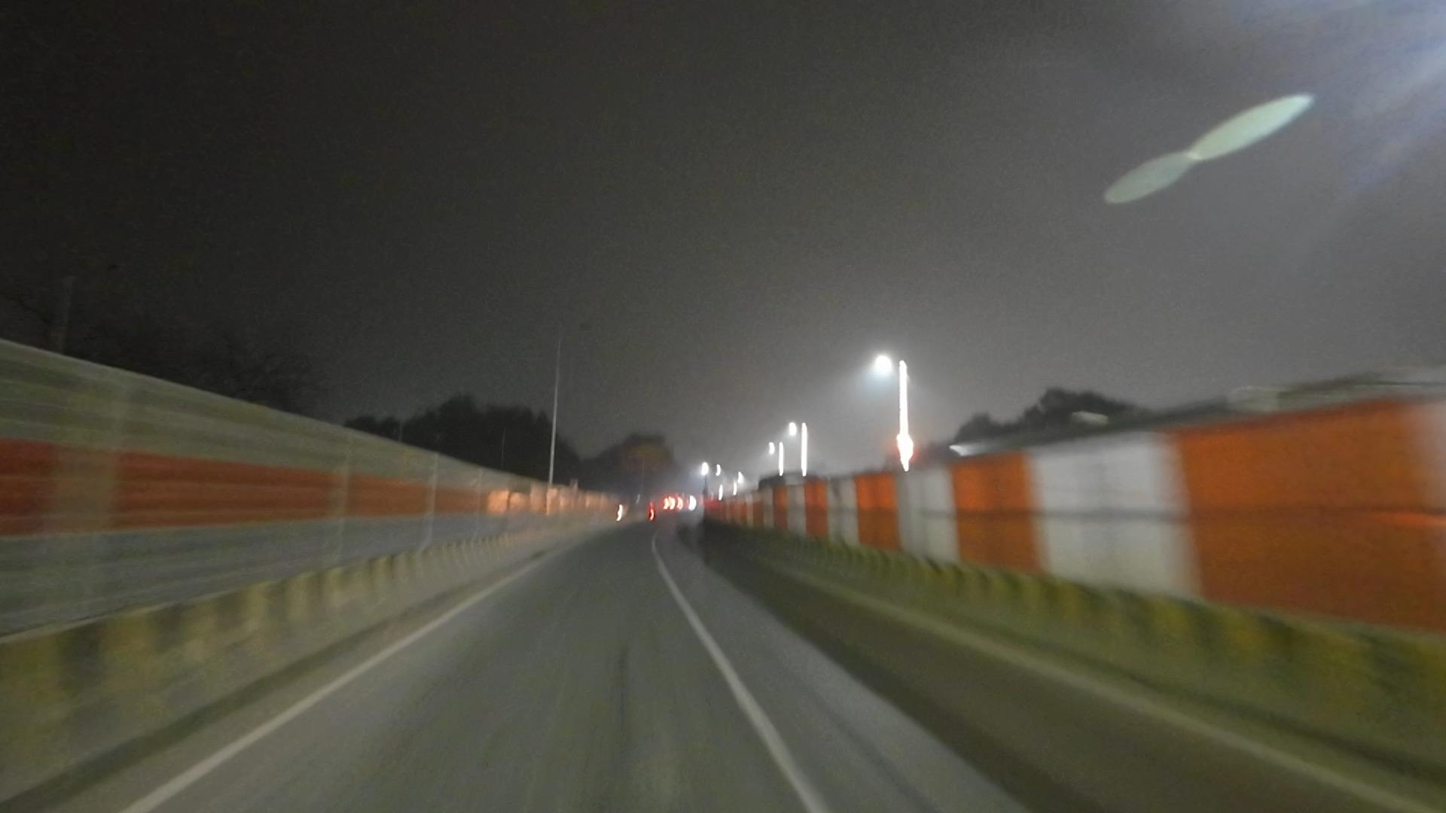streetlight: (560, 319, 599, 339)
